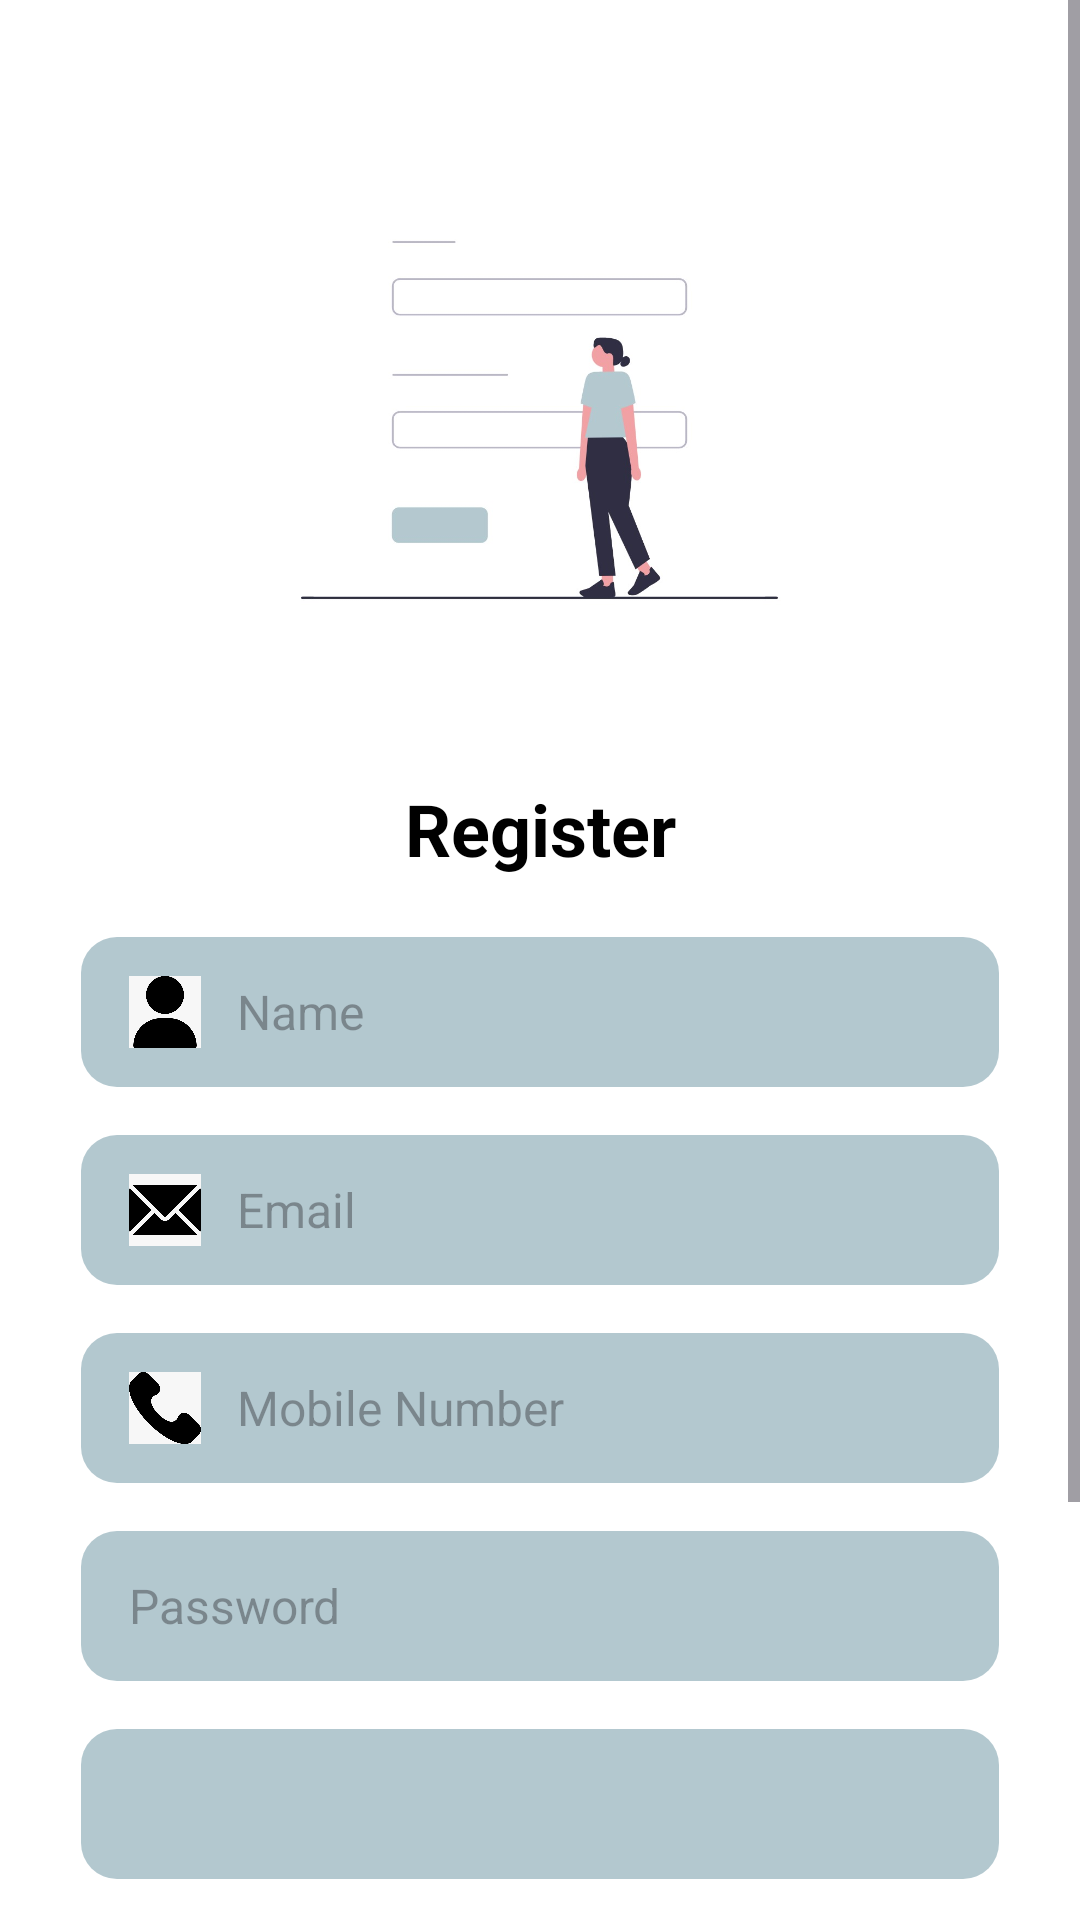

Screen size 1080px×1920px. Icon name, then its center in pixels as point (x, y):
phone: point (165, 1408)
user: point (165, 1012)
